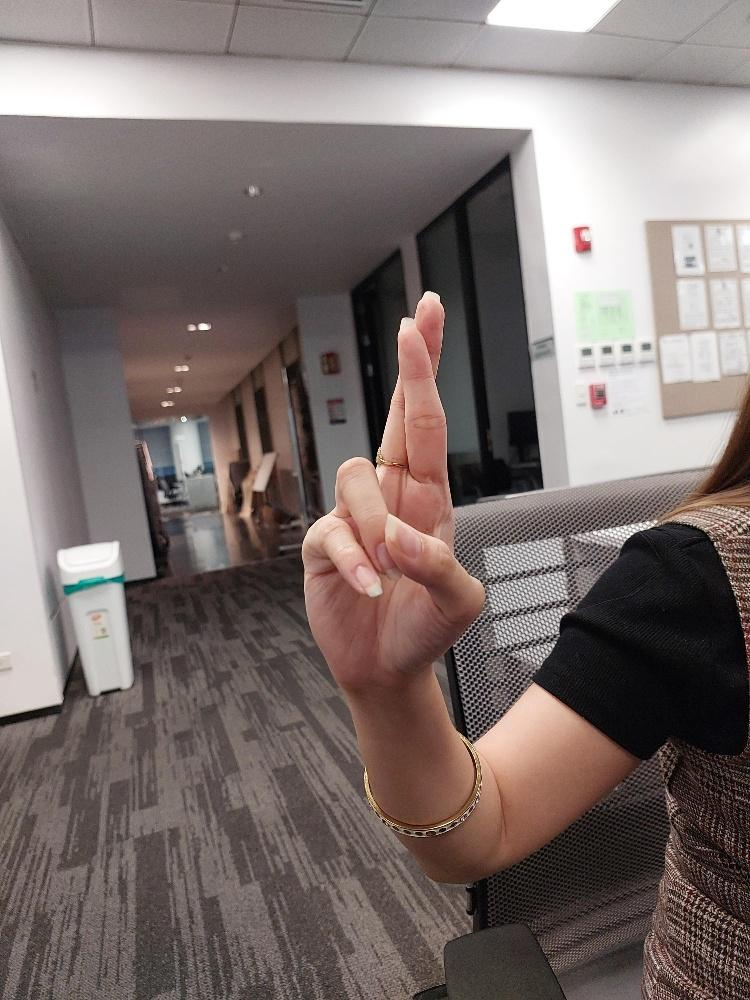r: (299, 288, 491, 698)
